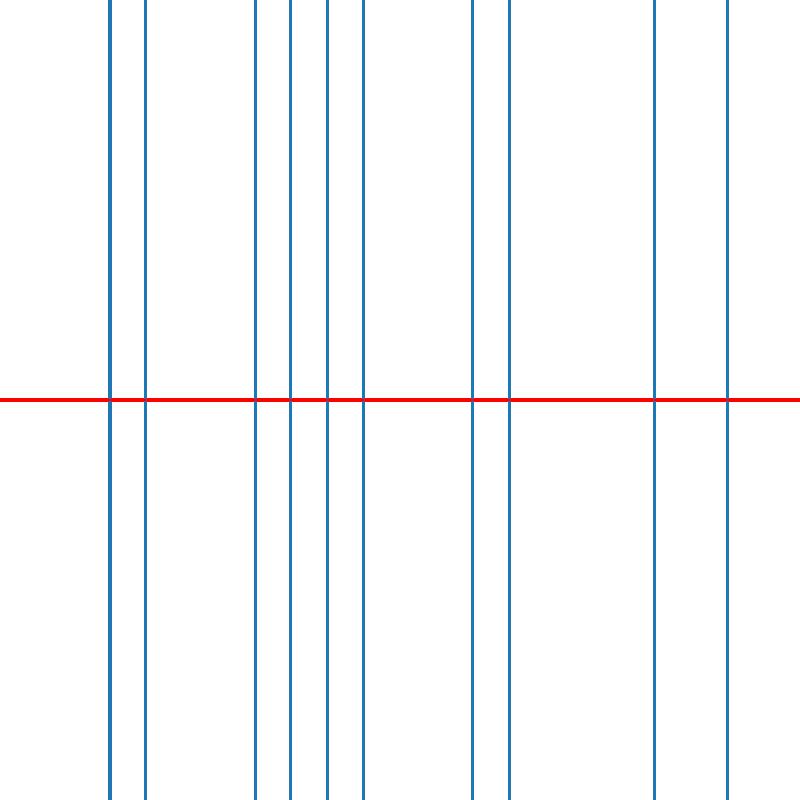root: (650, 396, 658, 404), (141, 396, 149, 404), (250, 396, 258, 404), (469, 396, 476, 404), (360, 396, 367, 404), (287, 396, 294, 404), (723, 396, 730, 404), (505, 396, 512, 404), (105, 396, 112, 404), (323, 396, 330, 404)
